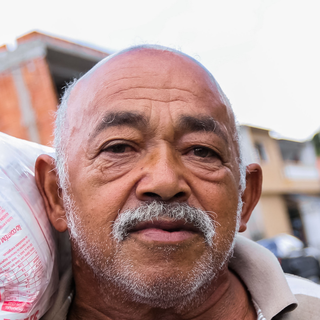eye: (173, 143, 224, 163), (95, 139, 145, 159)
